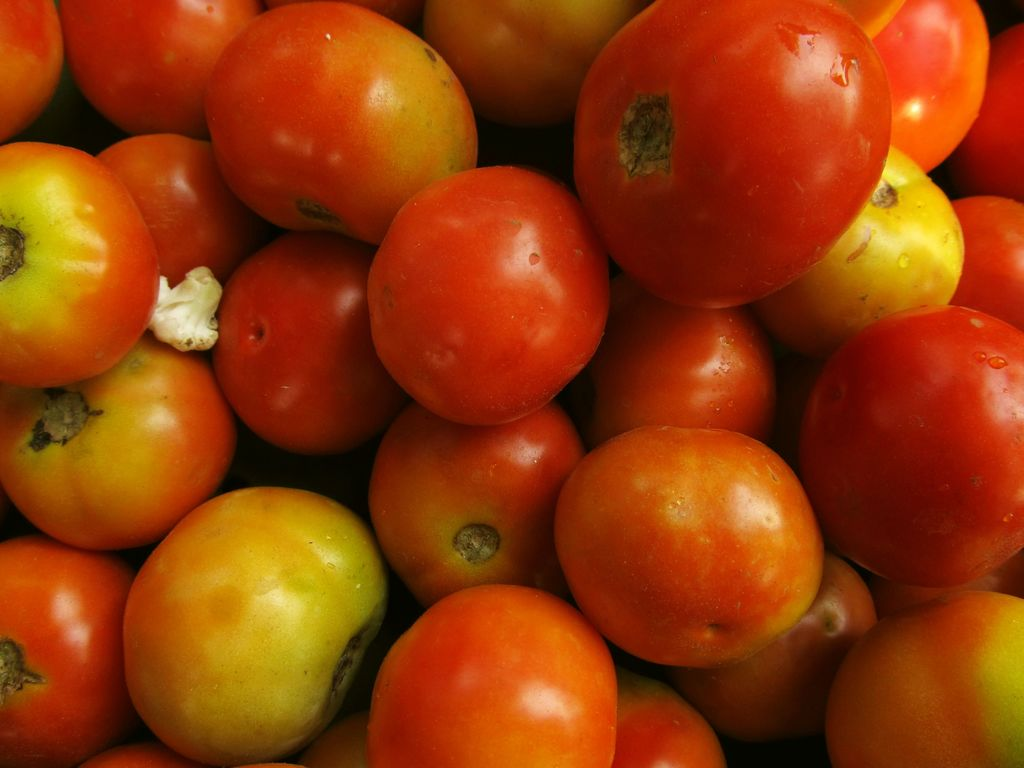Tomato: (0, 0, 1023, 767), (555, 410, 820, 677)
